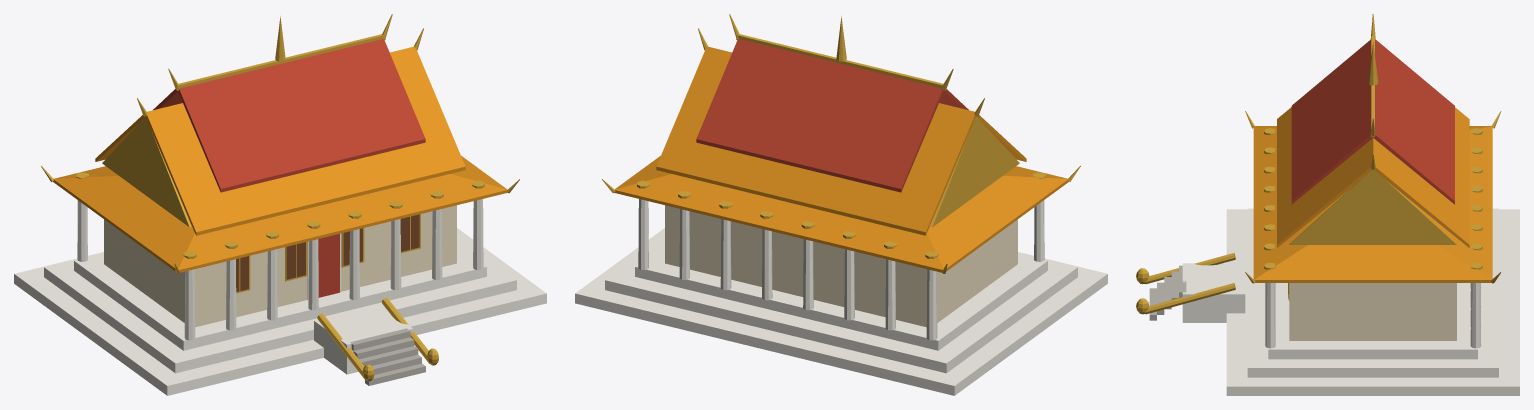
File: BLD_Pagoda.fbx
3 views of the same model, side by side, from view 1: azimuth 30°, elevation 25°; view 2: azimuth 150°, elevation 25°; view 3: azimuth 270°, elevation 25° (orthographic). The views are drawn at different scales.
Visible parts, largest first — view 1: BLD_Pagoda; view 2: BLD_Pagoda; view 3: BLD_Pagoda.
Boxes of the visible parts, <box> form: BLD_Pagoda: <box>14,14,546,395</box>; BLD_Pagoda: <box>575,14,1107,395</box>; BLD_Pagoda: <box>1136,14,1519,395</box>.
Bounding box in the file's own units: 20 × 14 × 18.32.
